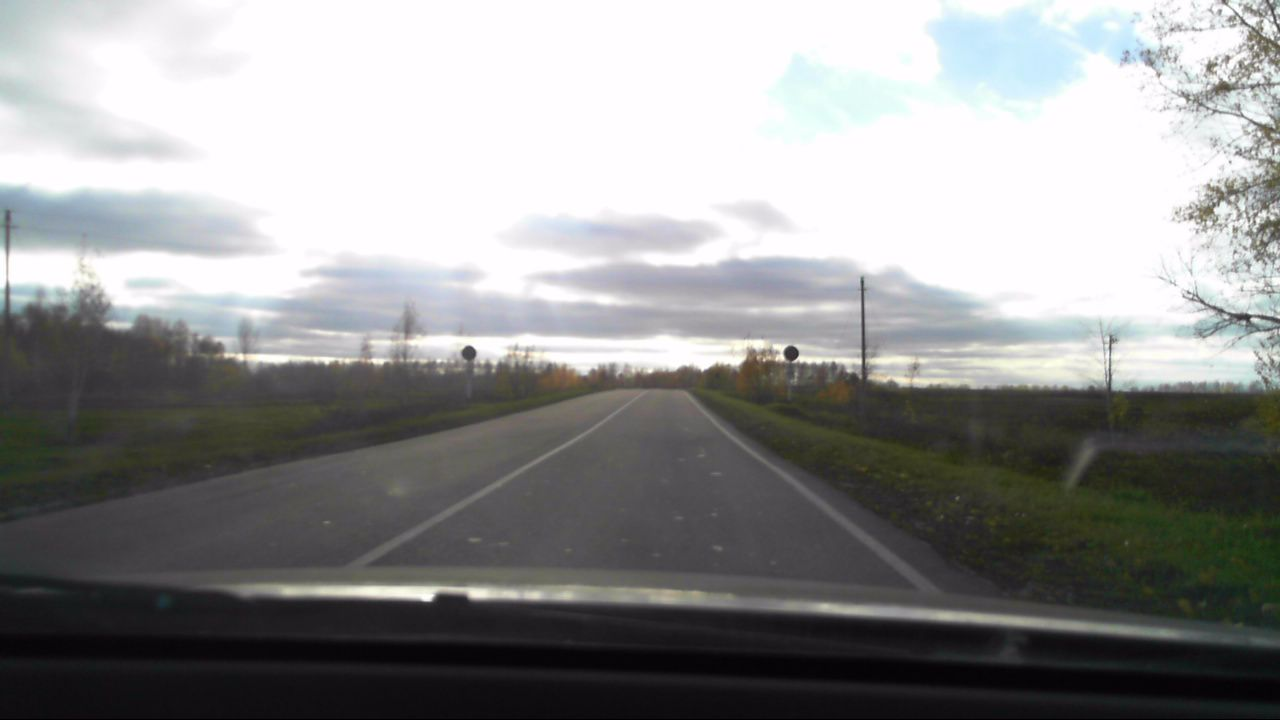No Parking: (783, 345, 801, 364)
